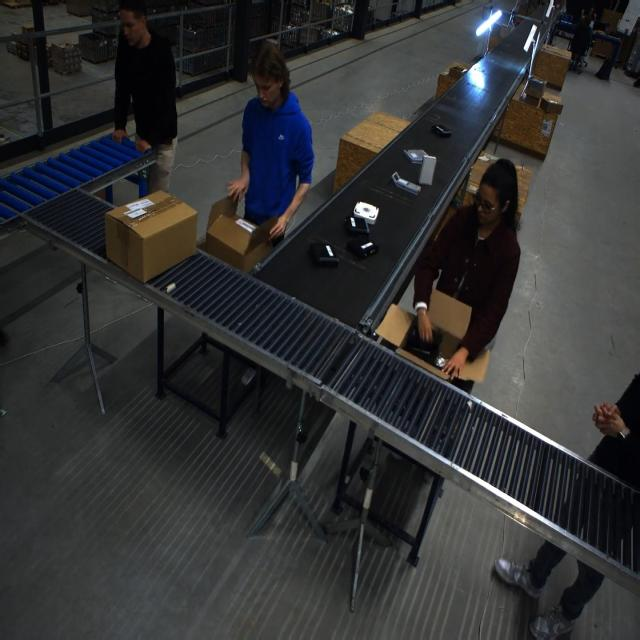box: (105, 191, 199, 283), (201, 195, 284, 272), (523, 75, 546, 100), (540, 92, 564, 115), (448, 64, 468, 79)
product: (310, 243, 339, 267), (391, 172, 420, 196), (346, 238, 379, 259), (353, 201, 379, 226), (344, 215, 370, 236), (421, 151, 435, 189), (403, 149, 426, 163), (430, 124, 452, 138)
